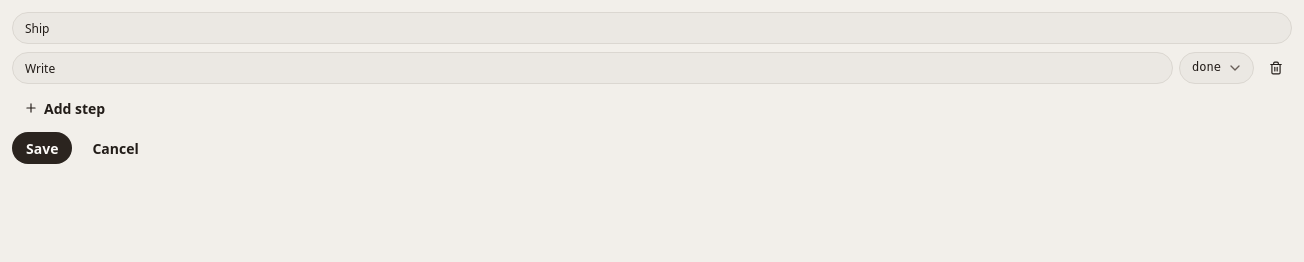
the plan editor › loads the agent’s version instead, when that is the choice
Click the button "Save" at [42, 148], box [12,132,72,164]
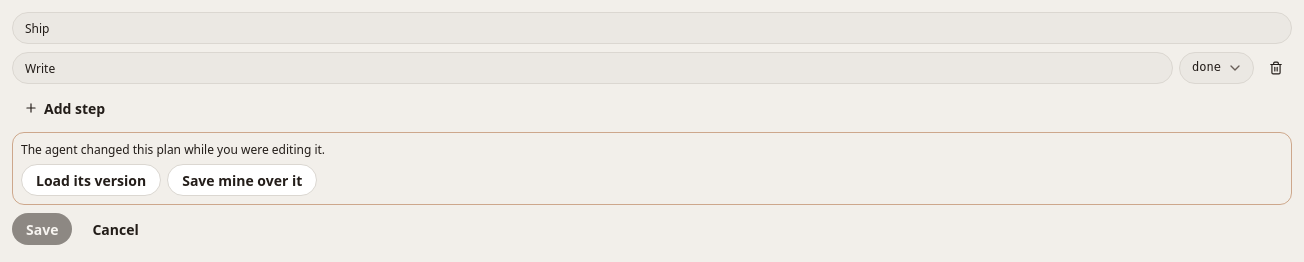
Click the button "Load its version" at [91, 180], box [21,164,161,196]
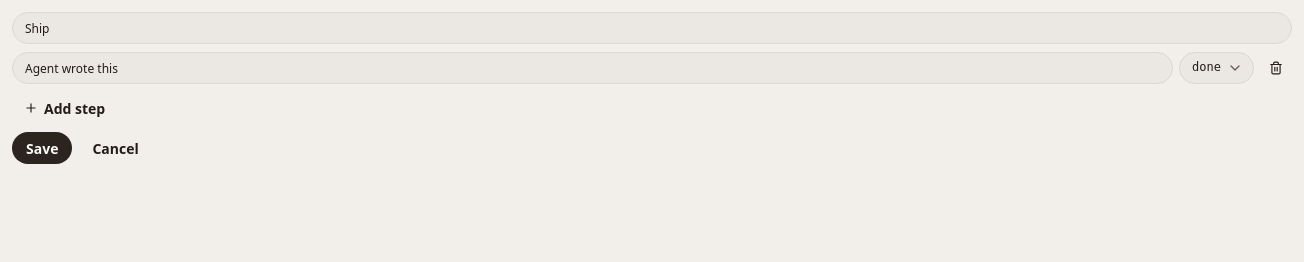
Check: the field named "Step 1" holds "Agent wrote this", box [12,52,1173,84]
